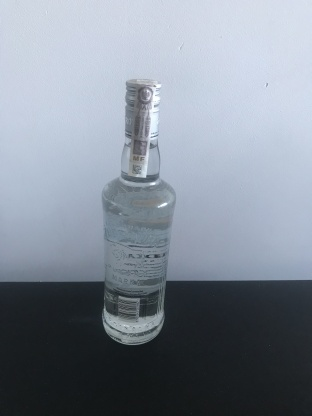nakretka: (121, 73, 164, 143)
